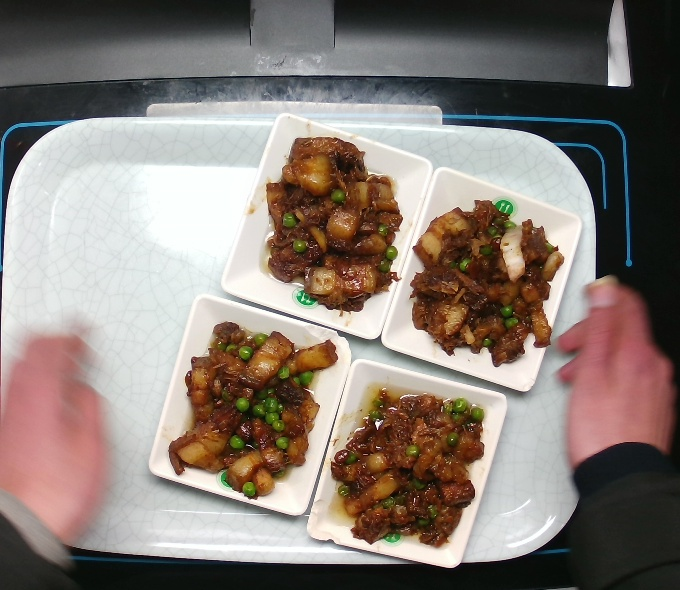wcq-JiangRou: (158, 316, 346, 506), (249, 126, 413, 325), (401, 191, 573, 372), (319, 374, 491, 553)
